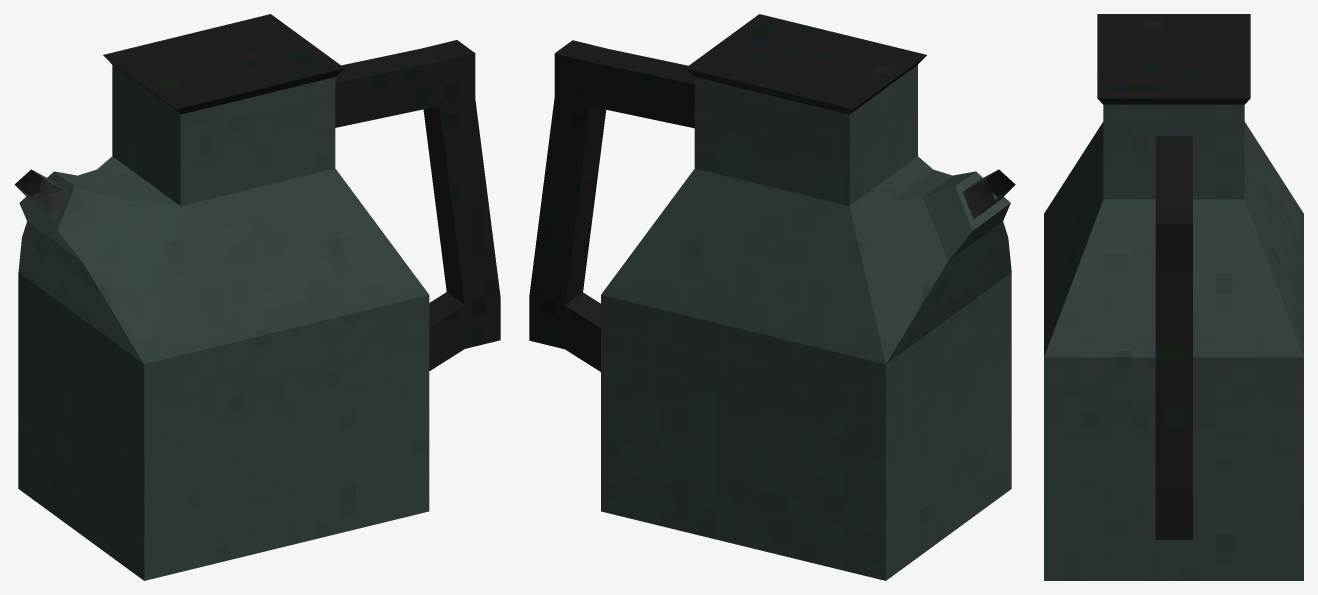
Rendered from coffeepot.glb.
3 renders of one model, left to right at view 1: azimuth 30°, elevation 25°; view 2: azimuth 150°, elevation 25°; view 3: azimuth 270°, elevation 25°, orthographic. The views are drawn at different scales.
Parts seen in each view (by area): view 1: Cube; view 2: Cube; view 3: Cube.
Part boxes in pixels (x1,y1,x2,y2): Cube: (14,14,500,580); Cube: (529,14,1015,580); Cube: (1044,14,1303,580).
Bounding box in the file's own units: 2.96 × 2.66 × 1.38.
1 material, 1 textured.
